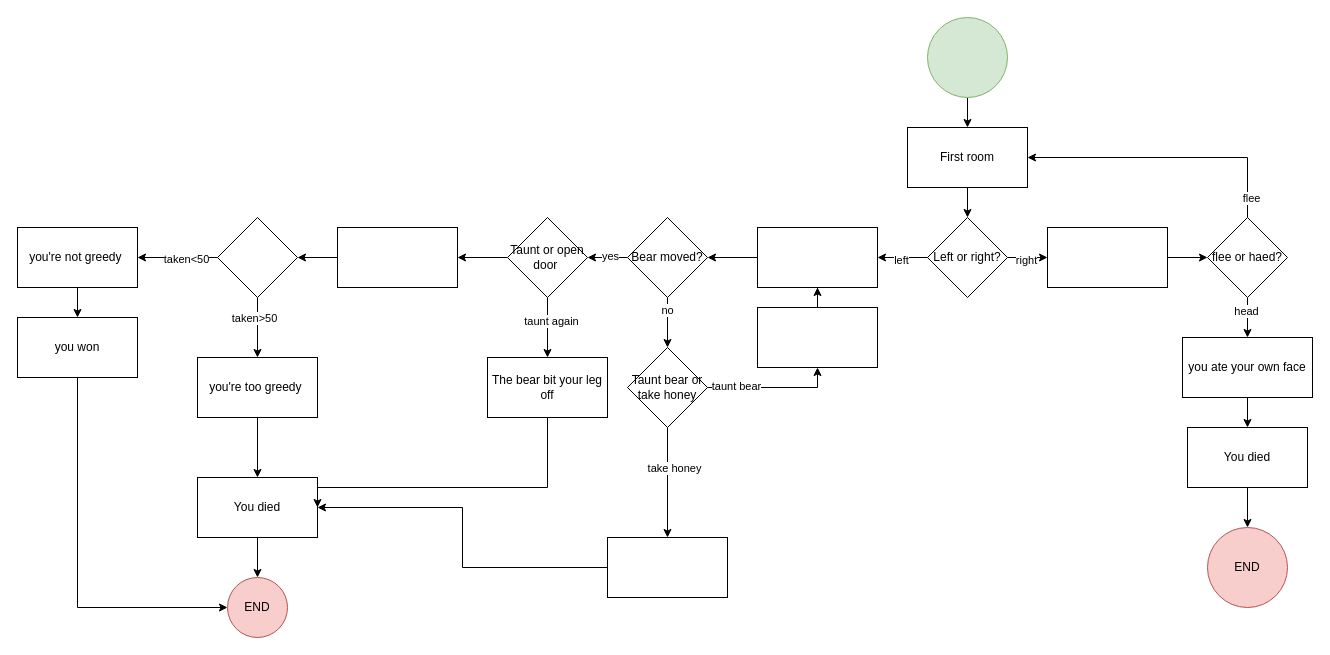
Image size: 1330x655. Some labels were removed from this diagram. Each missing label, with the centre of its shape:
"Bear moves" goes at (x=817, y=337).
"Bear room" goes at (x=817, y=257).
"cthulhu room" goes at (x=1107, y=257).
"START" goes at (x=967, y=57).
"taken gold >50" goes at (x=257, y=257).
"The bear slapped your face off" goes at (x=667, y=567).
"Treasure room" goes at (x=397, y=257).
